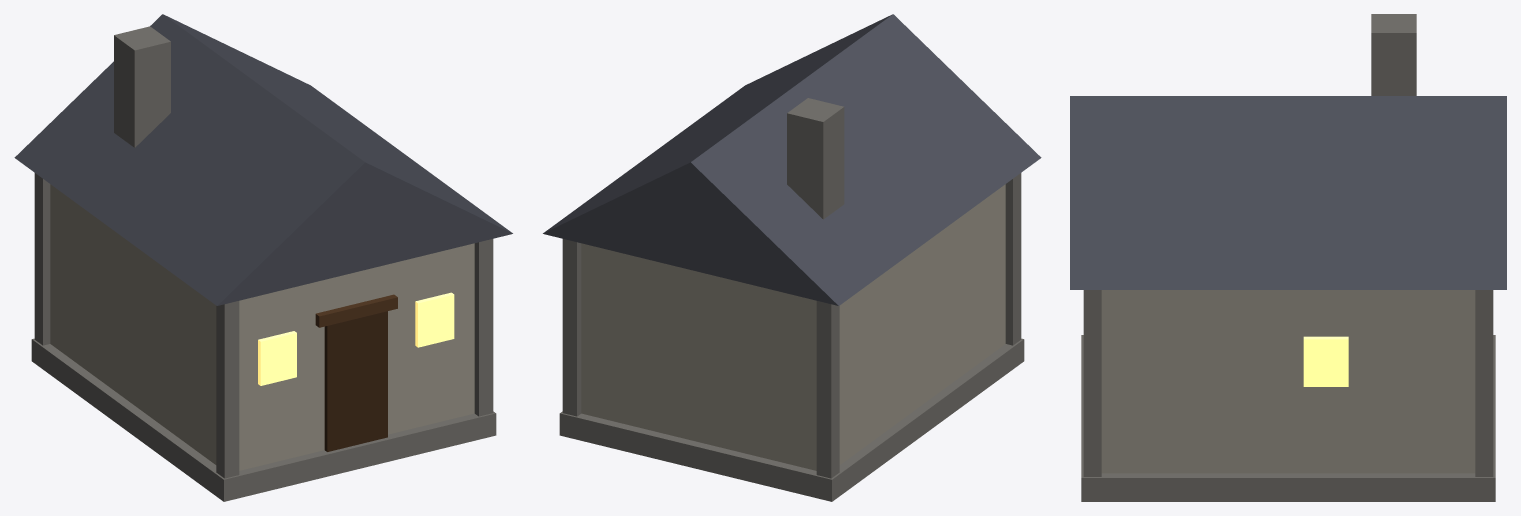
Rendered from house_stone.glb.
3 renders of one model, left to right at view 1: azimuth 30°, elevation 25°; view 2: azimuth 150°, elevation 25°; view 3: azimuth 270°, elevation 25°, orthographic. The views are drawn at different scales.
Parts seen in each view (by area): view 1: house_stone; view 2: house_stone; view 3: house_stone.
Boxes of the visible parts, left/top/right/bottom form: house_stone: left=14, top=14, right=512, bottom=501; house_stone: left=543, top=14, right=1041, bottom=501; house_stone: left=1070, top=14, right=1506, bottom=501.
Size of the model in its own units: 4.9 by 5.4 by 5.8.
